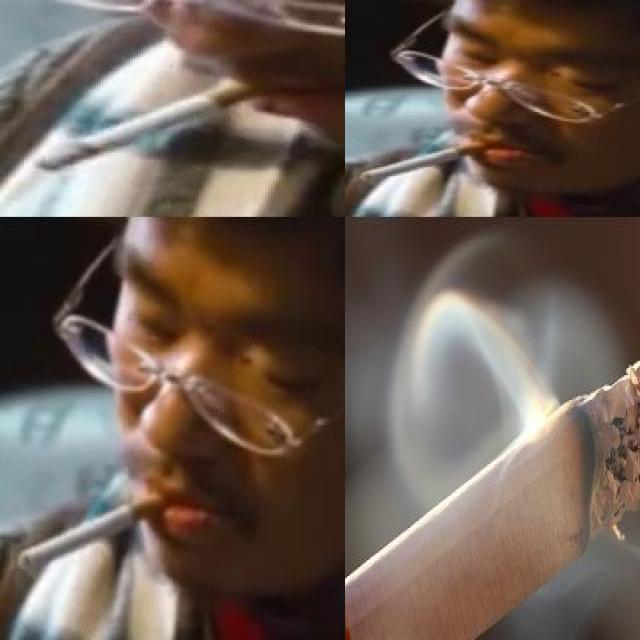smoking: (345, 311, 639, 638), (31, 76, 271, 172), (18, 490, 172, 574), (360, 140, 492, 183)
